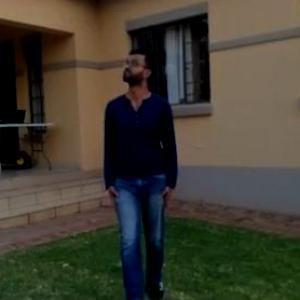follow: (98, 45, 177, 299)
